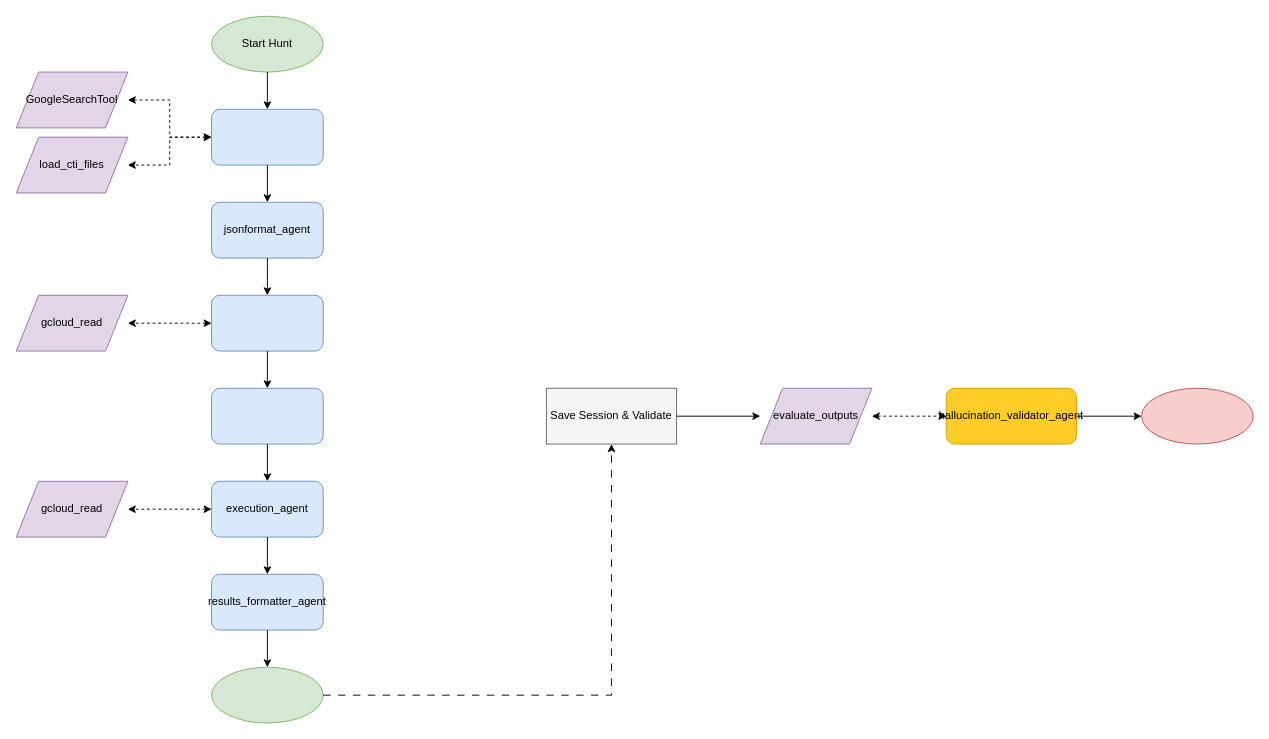
Image size: 1269x739. Some labels were removed from this diagram. The centre of each missing label's shape, as x and y in pixels:
attackpath_agent: [267,322]
Final Report Generated: [267,694]
hypothesis_agent: [267,136]
searchconstructor_agent: [267,415]
Validation Complete: [1197,415]
